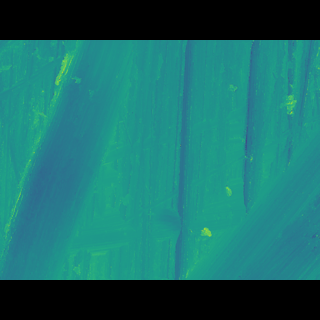Loch: (0, 70, 136, 249), (184, 137, 319, 250)
